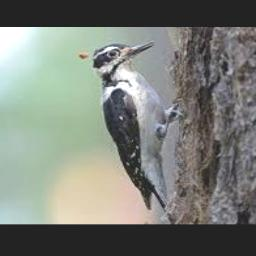Woodpecker: (78, 42, 183, 218)
